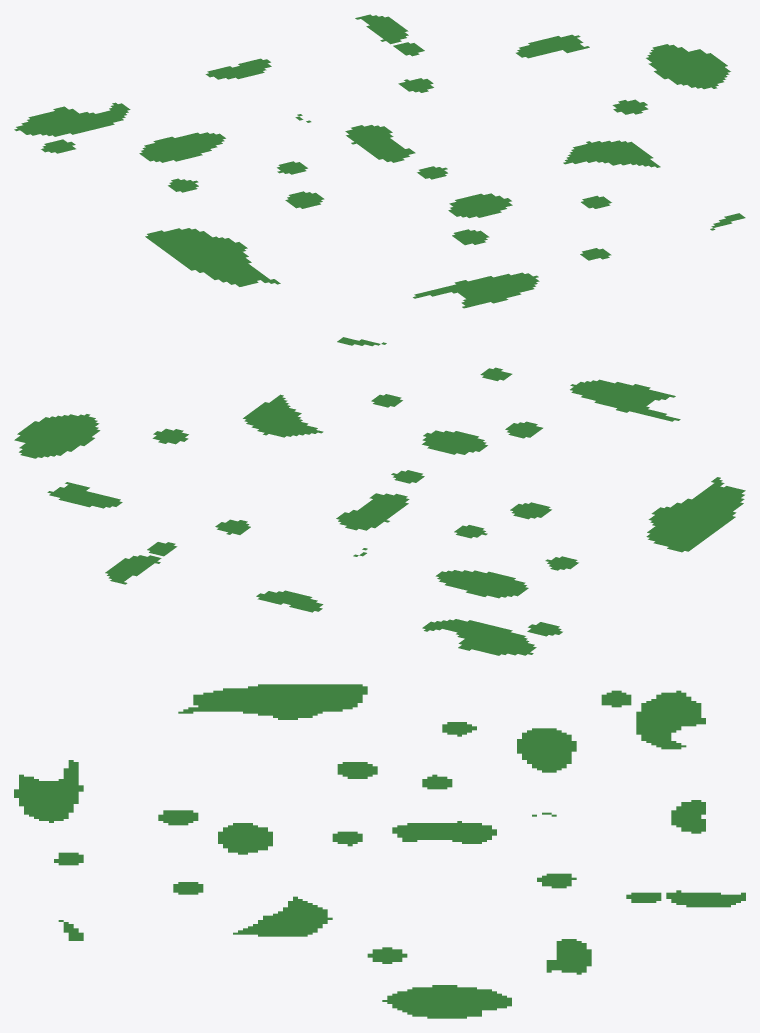
File: Map-3-TreesArea.fbx
3 renders of one model, top to bottom at view 1: azimuth 30°, elevation 25°; view 2: azimuth 150°, elevation 25°; view 3: azimuth 270°, elevation 25°, orthographic. The views are drawn at different scales.
Parts seen in each view (by area): view 1: Map-3-TreesArea; view 2: Map-3-TreesArea; view 3: Map-3-TreesArea.
Part boxes in pixels (x1,y1,x2,y2): Map-3-TreesArea: [14, 14, 745, 308]; Map-3-TreesArea: [14, 337, 745, 655]; Map-3-TreesArea: [14, 684, 745, 1018].
Size of the model in its own units: 159 by 0 by 147.
